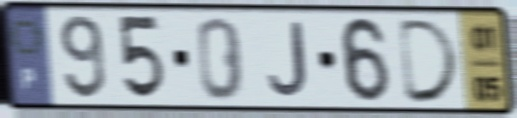0: (195, 14, 244, 104)
5: (117, 13, 168, 104)
6: (338, 14, 395, 107)
9: (57, 13, 108, 102)
D: (396, 16, 464, 106)
J: (265, 19, 312, 100)
